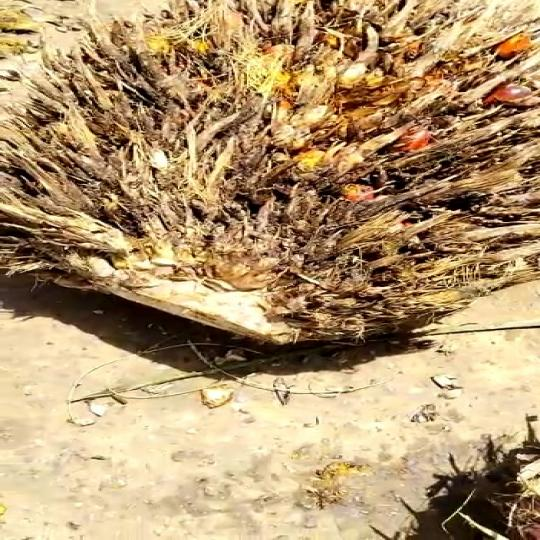terlalu masak: (0, 0, 540, 352)
